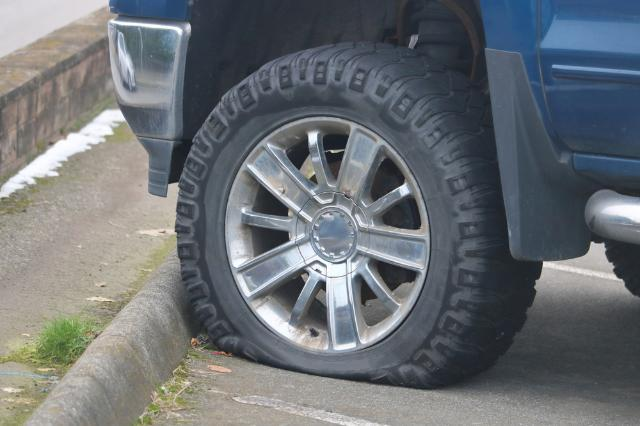tire flat: (176, 39, 542, 392)
